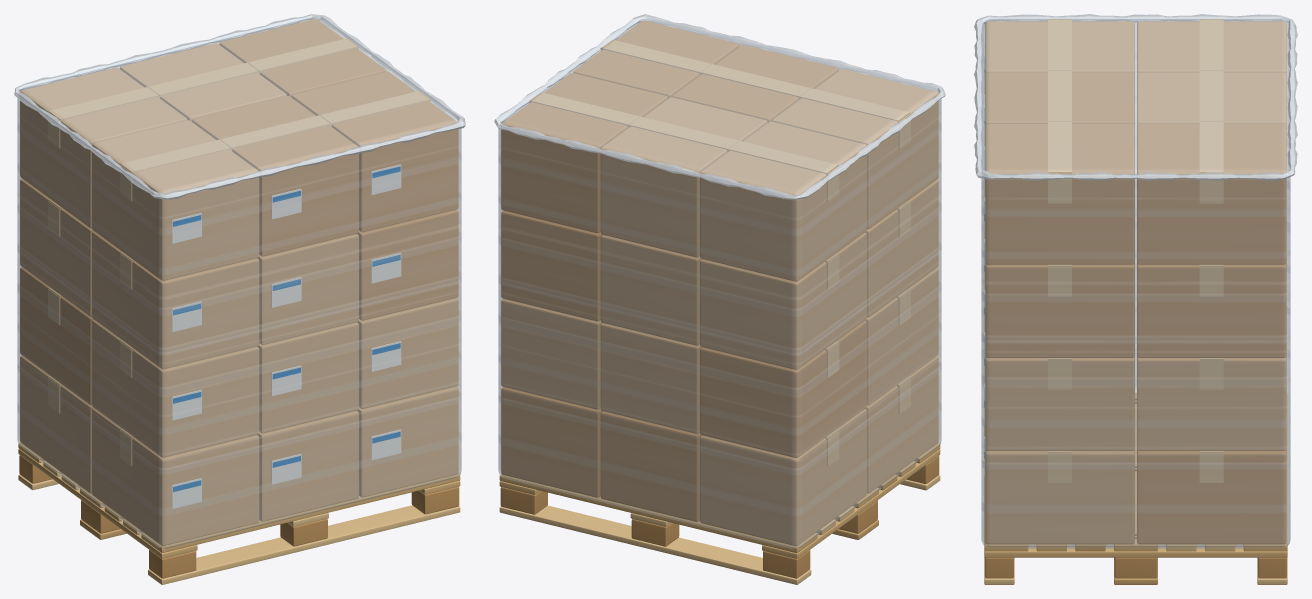
The model's file is pallet_load_wrapped.glb.
3 renders of one model, left to right at view 1: azimuth 30°, elevation 25°; view 2: azimuth 150°, elevation 25°; view 3: azimuth 270°, elevation 25°, orthographic. The views are drawn at different scales.
Parts seen in each view (by area): view 1: film_geo, load_geo, pallet_geo; view 2: film_geo, load_geo, pallet_geo; view 3: film_geo, load_geo, pallet_geo.
Part boxes in pixels (left/top/right/bottom): film_geo: left=14, top=14, right=465, bottom=548; load_geo: left=20, top=19, right=458, bottom=545; pallet_geo: left=18, top=442, right=460, bottom=584; film_geo: left=494, top=14, right=945, bottom=548; load_geo: left=501, top=20, right=938, bottom=545; pallet_geo: left=499, top=443, right=940, bottom=584; film_geo: left=974, top=14, right=1297, bottom=548; load_geo: left=984, top=19, right=1286, bottom=544; pallet_geo: left=984, top=392, right=1287, bottom=584.
Size of the model in its own units: 1.27 by 1.51 by 1.07.
12 materials, 1 textured.
